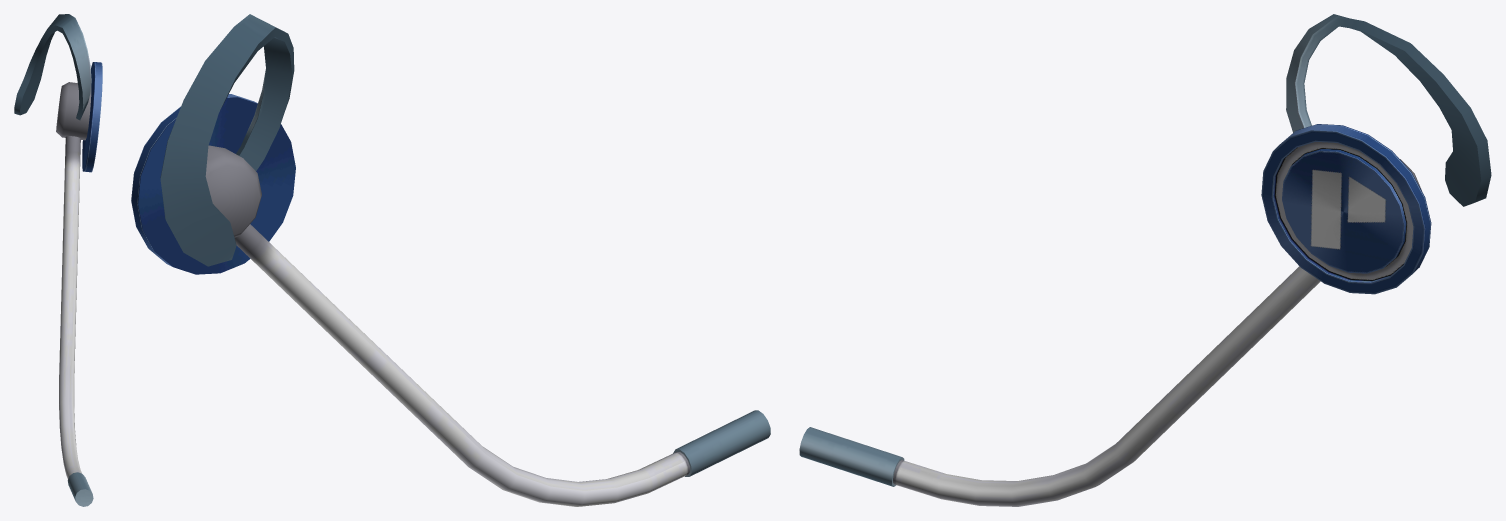
Rendered from EntrainingIntercomShu.fbx.
3 views of the same model, side by side, from view 1: azimuth 30°, elevation 25°; view 2: azimuth 150°, elevation 25°; view 3: azimuth 270°, elevation 25° (orthographic). The views are drawn at different scales.
Parts seen in each view (by area): view 1: EntrainingIntercomShu; view 2: EntrainingIntercomShu; view 3: EntrainingIntercomShu.
Boxes of the visible parts, left/top/right/bottom form: EntrainingIntercomShu: left=14, top=14, right=102, bottom=506; EntrainingIntercomShu: left=131, top=14, right=770, bottom=506; EntrainingIntercomShu: left=799, top=14, right=1491, bottom=506.
Size of the model in its own units: 0.0476 by 0.0774 by 0.0837.
Materials: 1 (1 with a texture image).
